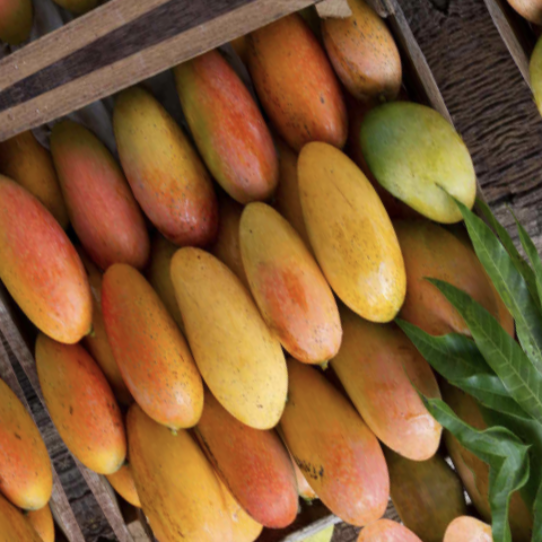mango: (132, 209, 322, 459), (262, 117, 441, 352), (140, 10, 307, 242), (61, 247, 228, 458), (250, 333, 418, 541), (74, 359, 262, 542), (218, 191, 373, 393), (345, 61, 504, 245), (0, 151, 126, 379), (33, 112, 181, 305), (6, 299, 150, 491)
